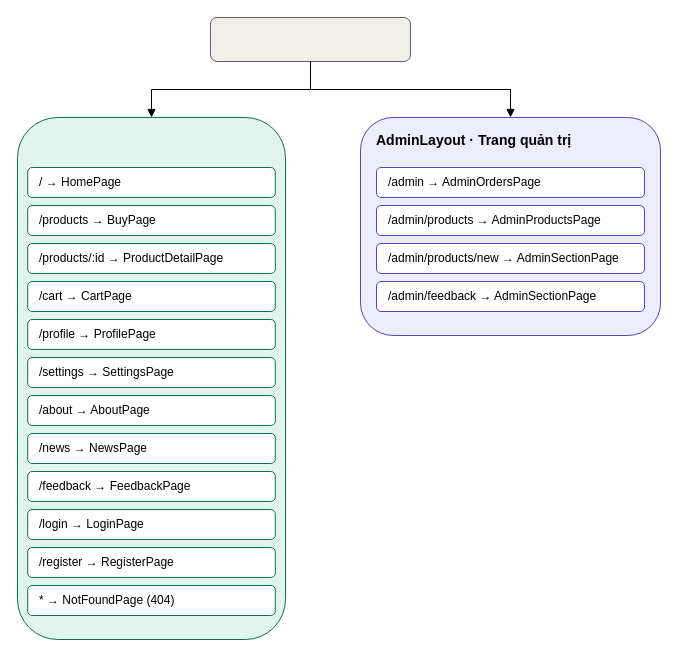
This 678x657 diagram has some shape labels left out. The box of each missing label's shape, as (x1, y1, x2, y2) in pixels:
App.tsx · Routes: (210, 16, 410, 62)
MainLayout · Trang người dùng: (16, 116, 286, 640)
